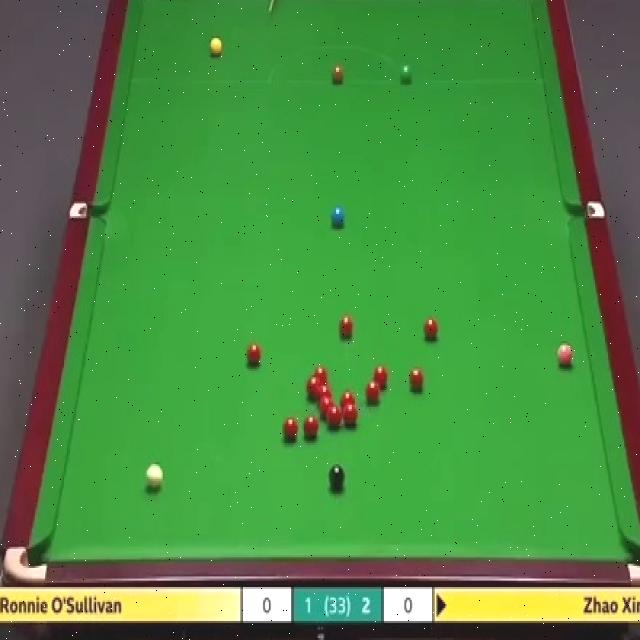black-ball: (328, 462, 346, 493)
blue-ball: (330, 206, 346, 228)
brown-ball: (331, 63, 344, 85)
green-ball: (399, 64, 413, 84)
pink-ball: (557, 342, 573, 368)
red-ball: (338, 313, 357, 341), (245, 341, 263, 370), (302, 413, 320, 442), (281, 415, 298, 441), (342, 403, 359, 429), (409, 367, 424, 393), (365, 379, 380, 405), (424, 316, 439, 342), (374, 364, 388, 390), (328, 406, 342, 430), (307, 378, 322, 400), (313, 364, 329, 384), (340, 392, 355, 407), (318, 386, 334, 400), (320, 398, 334, 414)
white-ball: (145, 464, 161, 492)
yellow-ball: (210, 38, 224, 59)
